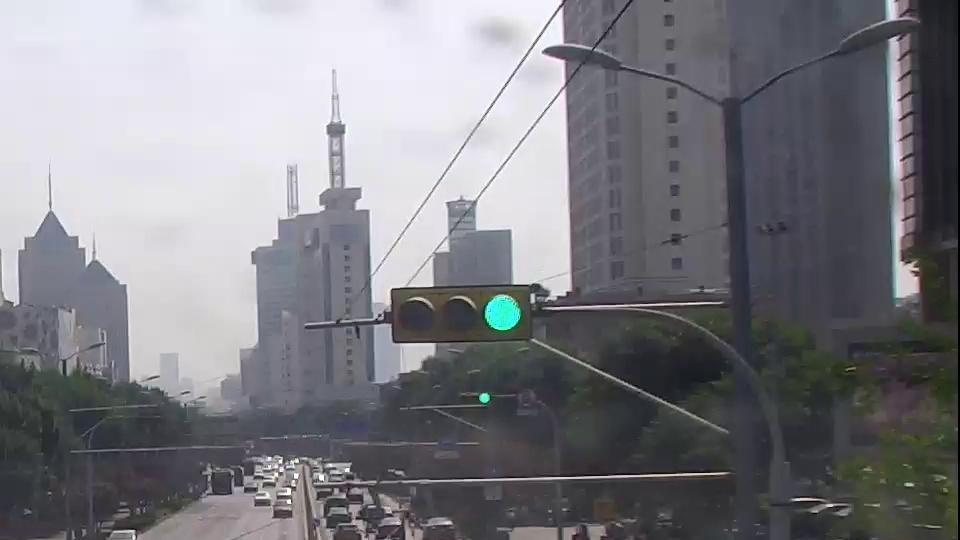green: (470, 289, 532, 338), (474, 390, 499, 414)
